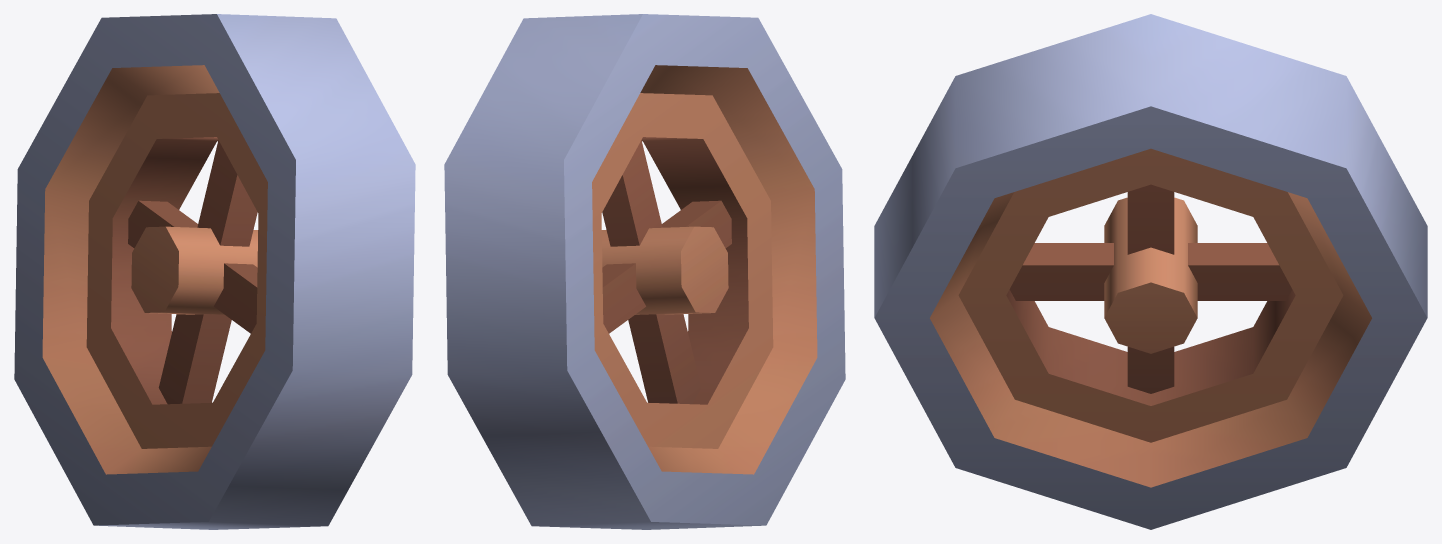
File: cart_wheel.glb
The picture shows the model from 3 angles, left to right: view 1: azimuth 30°, elevation 25°; view 2: azimuth 150°, elevation 25°; view 3: azimuth 270°, elevation 25°; orthographic projection.
Visible parts, largest first — view 1: wheel; view 2: wheel; view 3: wheel.
Part boxes in pixels (x1,y1,x2,y2): wheel: (14, 14, 415, 529); wheel: (444, 14, 845, 529); wheel: (874, 14, 1427, 529).
Bounding box in the file's own units: 0.2384 × 0.4833 × 0.4678.
Materials: 1 (1 with a texture image).
